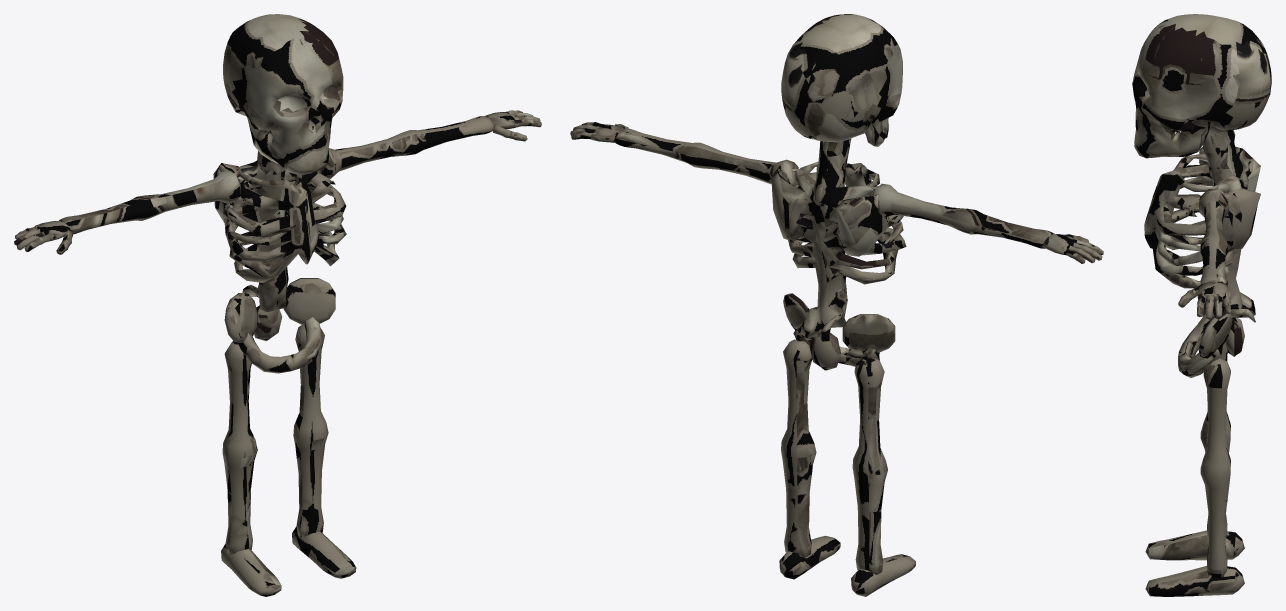
Rendered from Skeleton_LowPoly_v2.fbx.
The picture shows the model from 3 angles, left to right: view 1: azimuth 30°, elevation 25°; view 2: azimuth 150°, elevation 25°; view 3: azimuth 270°, elevation 25°; orthographic projection.
Parts seen in each view (by area): view 1: Skeleton_LowPoly; view 2: Skeleton_LowPoly; view 3: Skeleton_LowPoly.
Boxes of the visible parts, x1,y1,x2,y2 form: Skeleton_LowPoly: [14, 14, 541, 596]; Skeleton_LowPoly: [570, 14, 1103, 596]; Skeleton_LowPoly: [1132, 14, 1271, 596].
Bounding box in the file's own units: 1.99 × 1.99 × 0.4526.
1 material, 1 textured.
